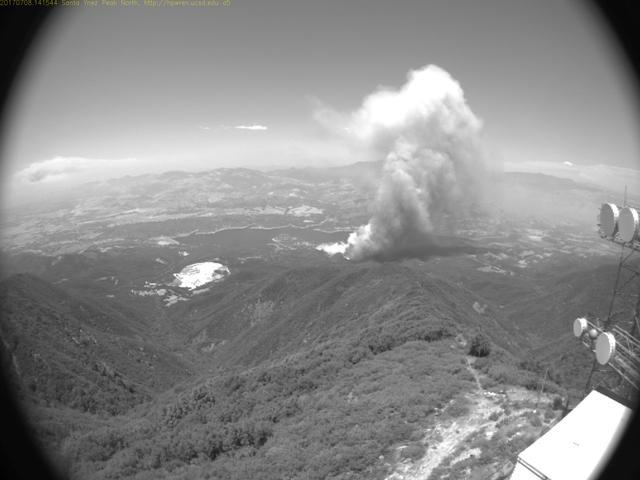smoke: (309, 62, 512, 259)
